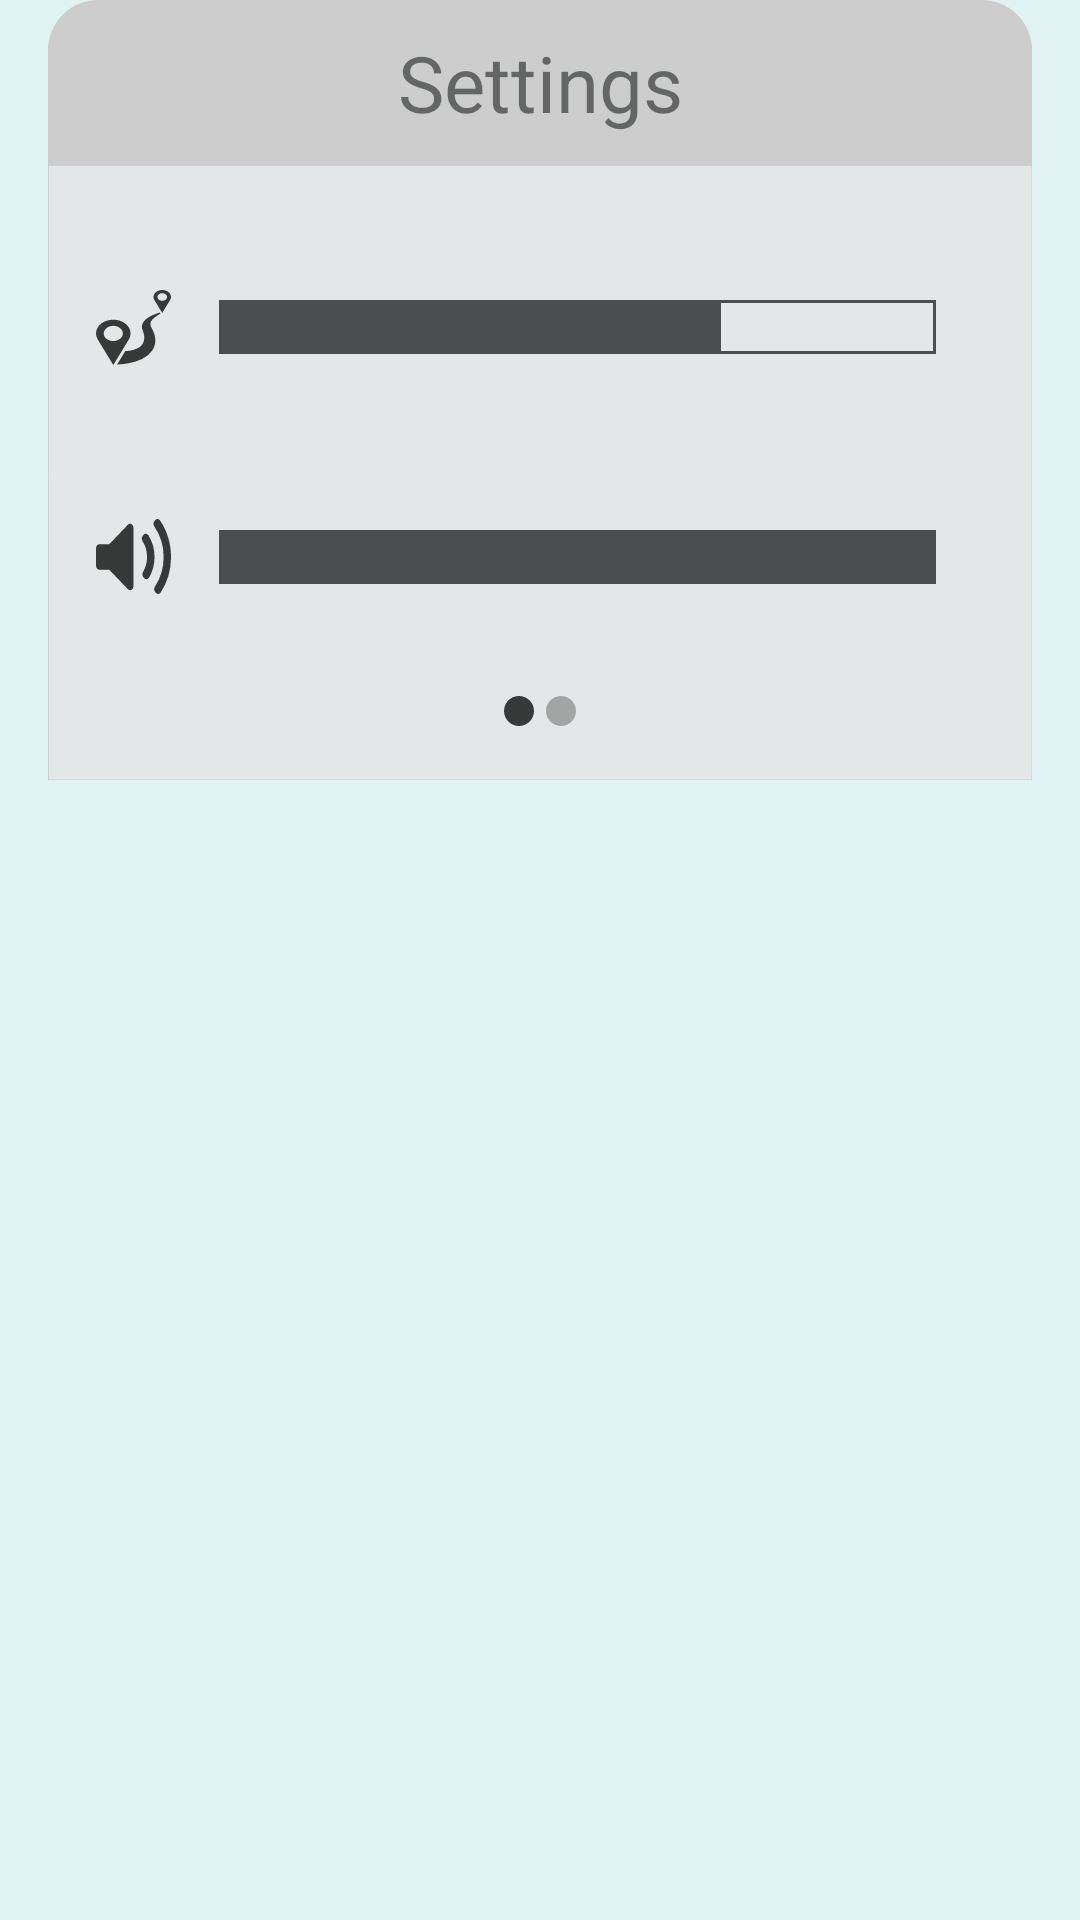

Icons on this 1080*1920 Android screen, each with the point to tap as [x,y]:
distance: [133,327]
speaker: [133,556]
